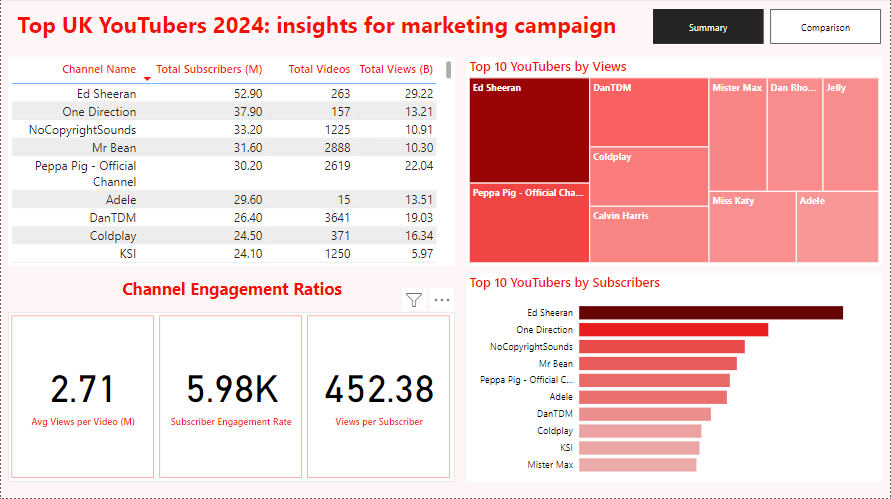

This screenshot's page, from the dashboard's own definition file:
{"tool":"powerbi","page":{"name":"Summary","canvas":[1280,720],"ordinal":0},"visuals":[{"type":"textbox","box":[0,10.1,910.1,64.8],"z":0},{"type":"tableEx","fields":{"Values":["view_Top_100_UK_YouTubers.Channel_Name","view_Top_100_UK_YouTubers.Total Subscribers (M)","view_Top_100_UK_YouTubers.Total Videos","view_Top_100_UK_YouTubers.Total Views (B)"]},"box":[10.1,85,643.7,301],"z":1000},{"type":"treemap","title":"Top 10 YouTubers by Views","fields":{"Group":["view_Top_100_UK_YouTubers.Channel_Name"],"Values":["view_Top_100_UK_YouTubers.Total Views (B)"]},"box":[669.6,85,599,301],"z":2000},{"type":"cardVisual","fields":{"Data":["view_Top_100_UK_YouTubers.Avg Views per Video (M)","view_Top_100_UK_YouTubers.Subscriber Engagement Rate","view_Top_100_UK_YouTubers.Views per Subscriber"]},"box":[10.1,452.2,643.7,244.8],"z":3000},{"type":"clusteredBarChart","title":"Top 10 YouTubers by Subscribers","fields":{"Category":["view_Top_100_UK_YouTubers.Channel_Name"],"Y":["view_Top_100_UK_YouTubers.Total Subscribers (M)"]},"box":[669.6,396,599,301],"z":4000},{"type":"textbox","box":[158.4,396,348.5,46.1],"z":5000},{"type":"pageNavigator","box":[938.9,15.8,329.8,50.4],"z":6000}]}

Visuals, with their boxes in screenshot pixels (x1, y1, x2, y2), scaled from the page's 1280x720 canvas onto the 891x499 screenshot:
textbox: (left=0, top=7, right=634, bottom=52)
tableEx - view_Top_100_UK_YouTubers.Channel_Name x view_Top_100_UK_YouTubers.Total Subscribers (M): (left=7, top=59, right=455, bottom=268)
"Top 10 YouTubers by Views" treemap: (left=466, top=59, right=883, bottom=268)
cardVisual - view_Top_100_UK_YouTubers.Avg Views per Video (M) x view_Top_100_UK_YouTubers.Subscriber Engagement Rate: (left=7, top=313, right=455, bottom=483)
"Top 10 YouTubers by Subscribers" clusteredBarChart: (left=466, top=274, right=883, bottom=483)
textbox: (left=110, top=274, right=353, bottom=306)
pageNavigator: (left=654, top=11, right=883, bottom=46)
